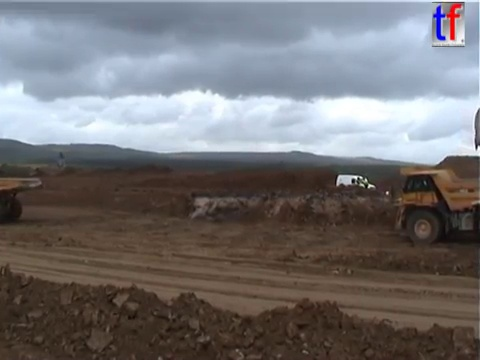excavator: (472, 105, 480, 151)
truck: (383, 164, 480, 247), (1, 175, 43, 225)
worker: (359, 173, 370, 194), (354, 174, 362, 193)
